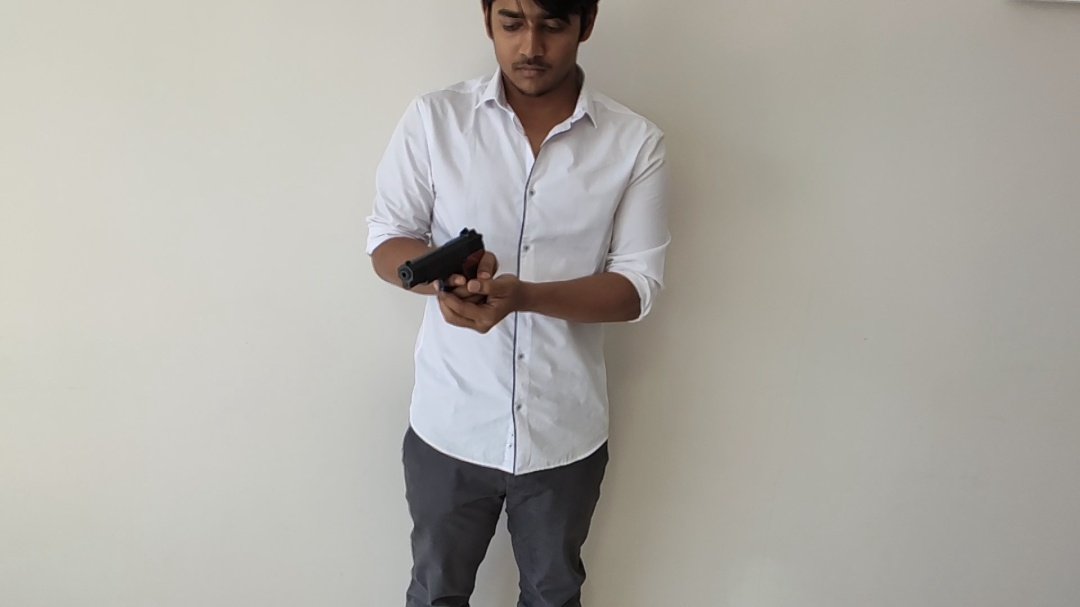gun: (107, 51, 1019, 582)
